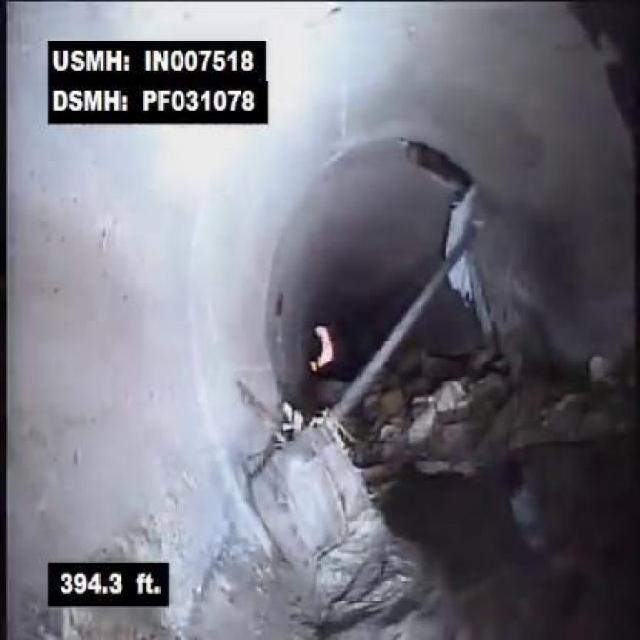Utility intrusion: (249, 180, 505, 518)
